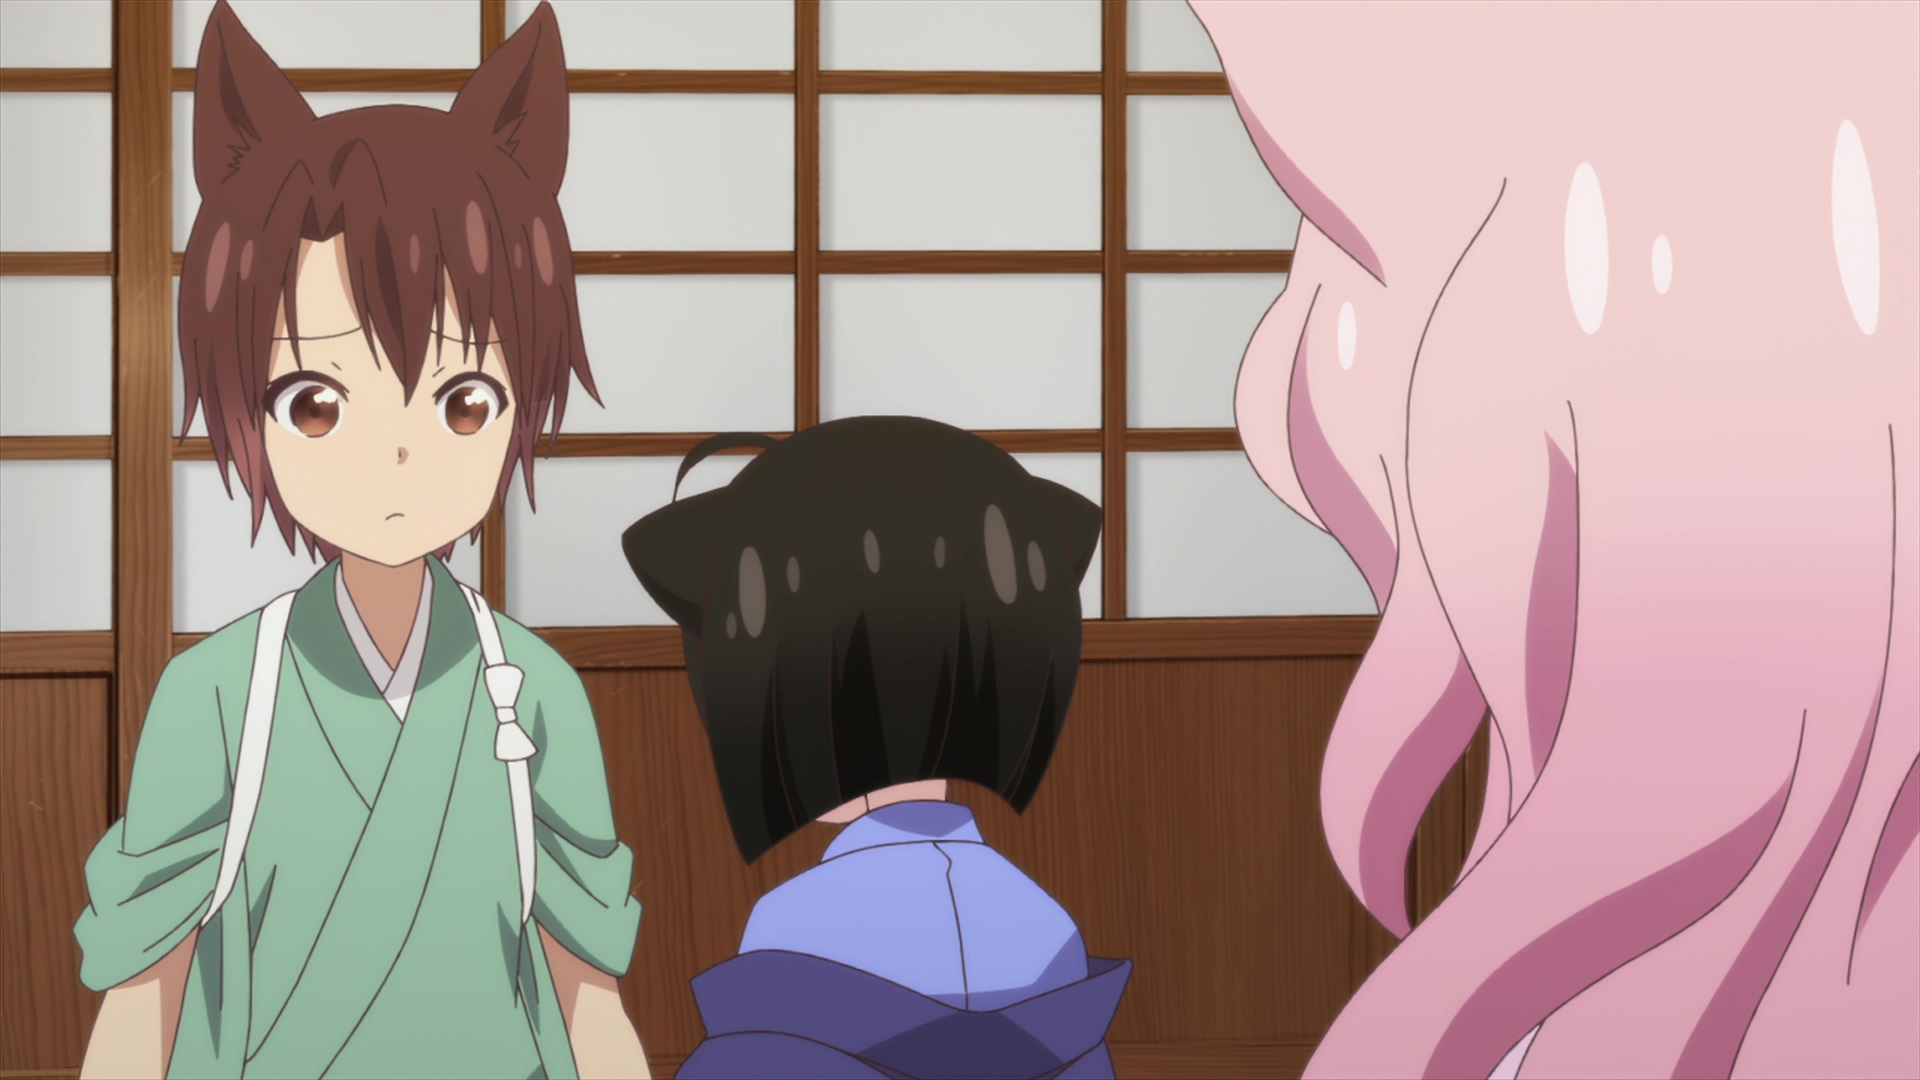其他: (622, 415, 1133, 1080)
枣: (73, 3, 654, 1080)
莲: (1189, 1, 1920, 1080)
